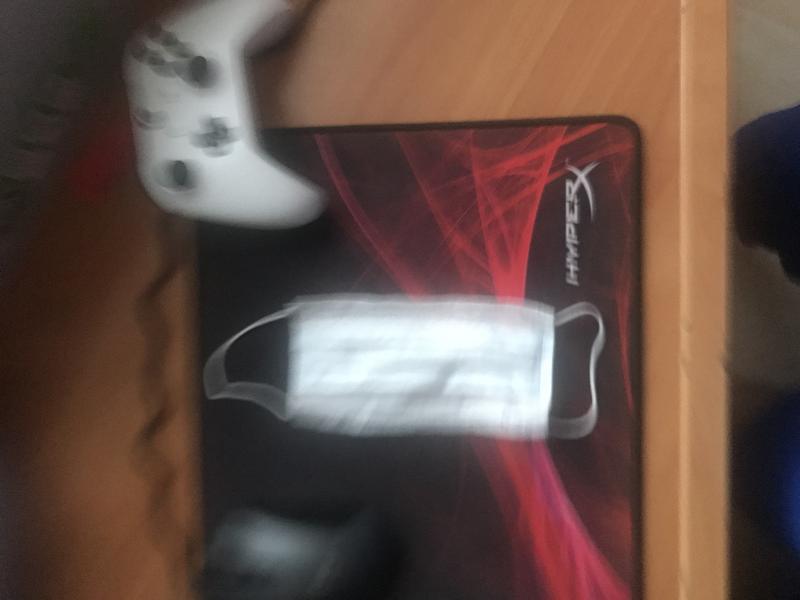medical_mask: (206, 296, 605, 440)
